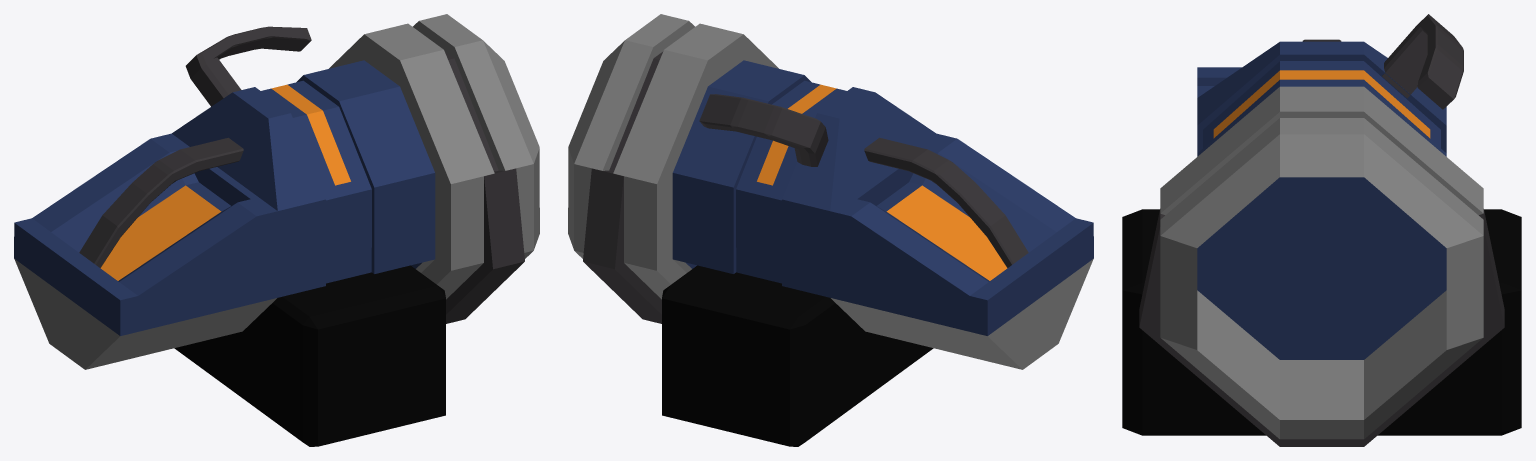
File: Gaitling 01.fbx
3 views of the same model, side by side, from view 1: azimuth 30°, elevation 25°; view 2: azimuth 150°, elevation 25°; view 3: azimuth 270°, elevation 25° (orthographic). The views are drawn at different scales.
Parts seen in each view (by area): view 1: Cube.057; view 2: Cube.057; view 3: Cube.057.
Boxes of the visible parts, x1,y1,x2,y2 form: Cube.057: (14,14,539,446); Cube.057: (568,14,1093,446); Cube.057: (1122,14,1521,446).
Bounding box in the file's own units: 0.3379 × 0.2375 × 0.2372.
